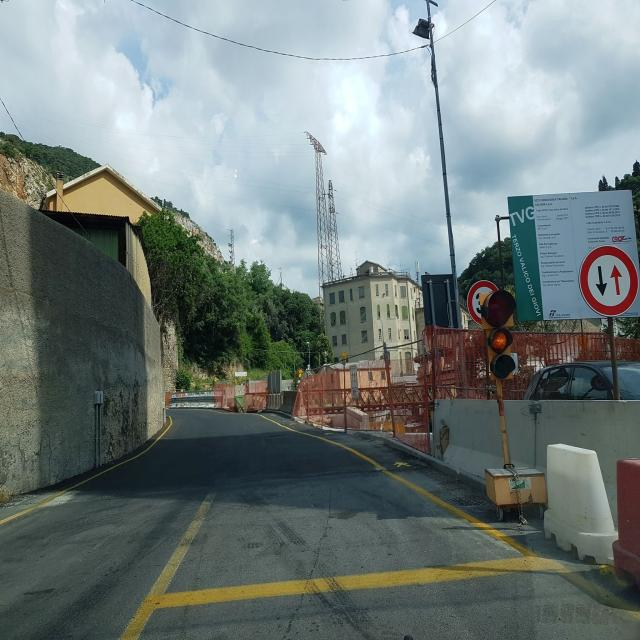car: (522, 361, 640, 399)
